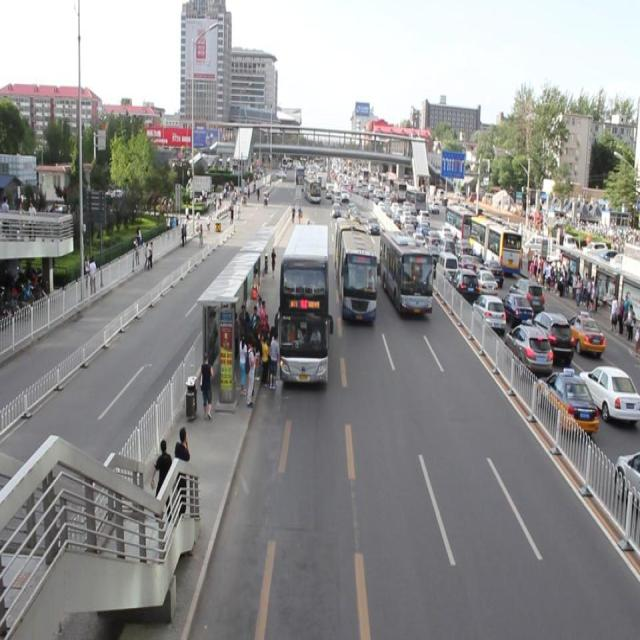car: (347, 202, 360, 222), (367, 212, 378, 234), (331, 200, 340, 218)
van: (280, 225, 328, 381), (380, 227, 431, 315), (335, 216, 375, 320)
